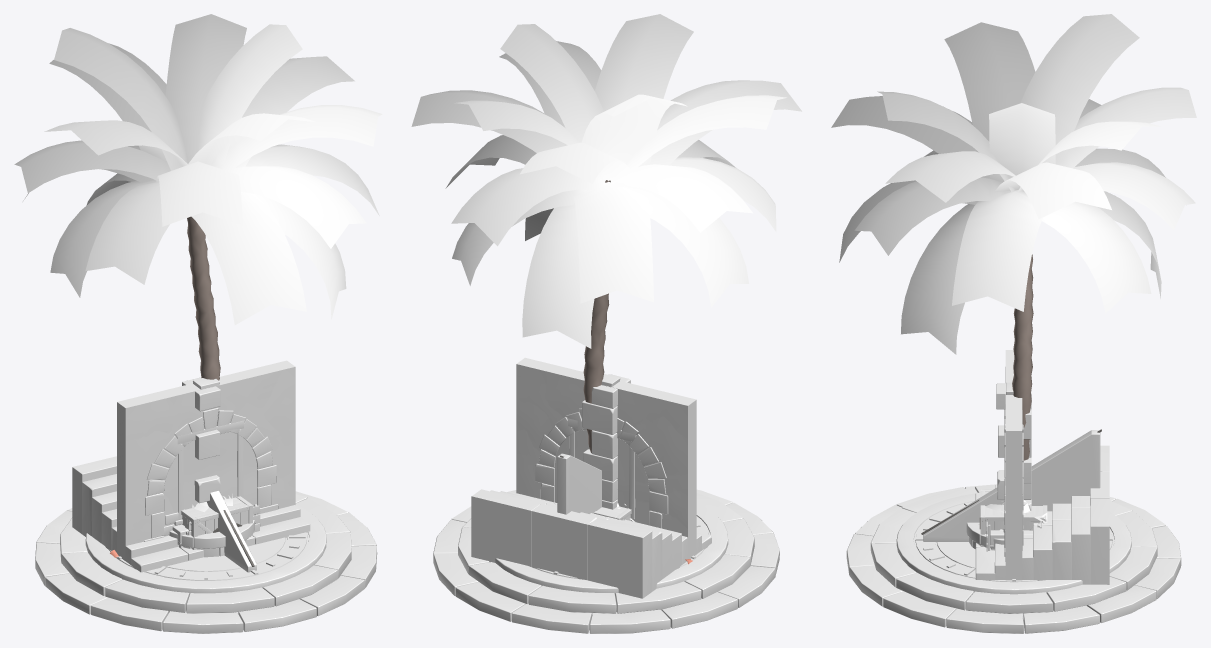
The model's file is kit.glb.
3 views of the same model, side by side, from view 1: azimuth 30°, elevation 25°; view 2: azimuth 150°, elevation 25°; view 3: azimuth 270°, elevation 25° (orthographic). The views are drawn at different scales.
Parts seen in each view (by area): view 1: palm, sundial, wall_archway, wall_sandstone, steps_4m, wall_upper_window, quoin, crate2, well; view 2: palm, sundial, steps_4m, wall_archway, wall_upper_window, wall_sandstone, quoin; view 3: palm, sundial, steps_4m, wall_archway, quoin, crate2, wall_sandstone.
Boxes of the visible parts, box(x1,y1,x2,y2) form: palm: box(14, 14, 382, 380); sundial: box(35, 491, 377, 633); wall_archway: box(117, 360, 295, 560); wall_sandstone: box(119, 361, 295, 545); steps_4m: box(72, 456, 310, 593); wall_upper_window: box(127, 372, 295, 525); quoin: box(182, 377, 220, 503); crate2: box(181, 496, 252, 549); well: box(169, 520, 254, 557); palm: box(411, 14, 801, 452); sundial: box(433, 453, 779, 633); steps_4m: box(471, 489, 711, 598); wall_archway: box(516, 358, 696, 558); wall_upper_window: box(516, 366, 687, 533); wall_sandstone: box(516, 358, 687, 537); quoin: box(582, 374, 630, 509); palm: box(831, 14, 1196, 460); sundial: box(846, 429, 1181, 633); steps_4m: box(957, 445, 1109, 584); wall_archway: box(1004, 350, 1023, 580); quoin: box(996, 383, 1031, 510); crate2: box(980, 489, 1047, 546); wall_sandstone: box(1005, 358, 1022, 561).
Bounding box in the file's own units: 7.62 × 11.65 × 7.65.
